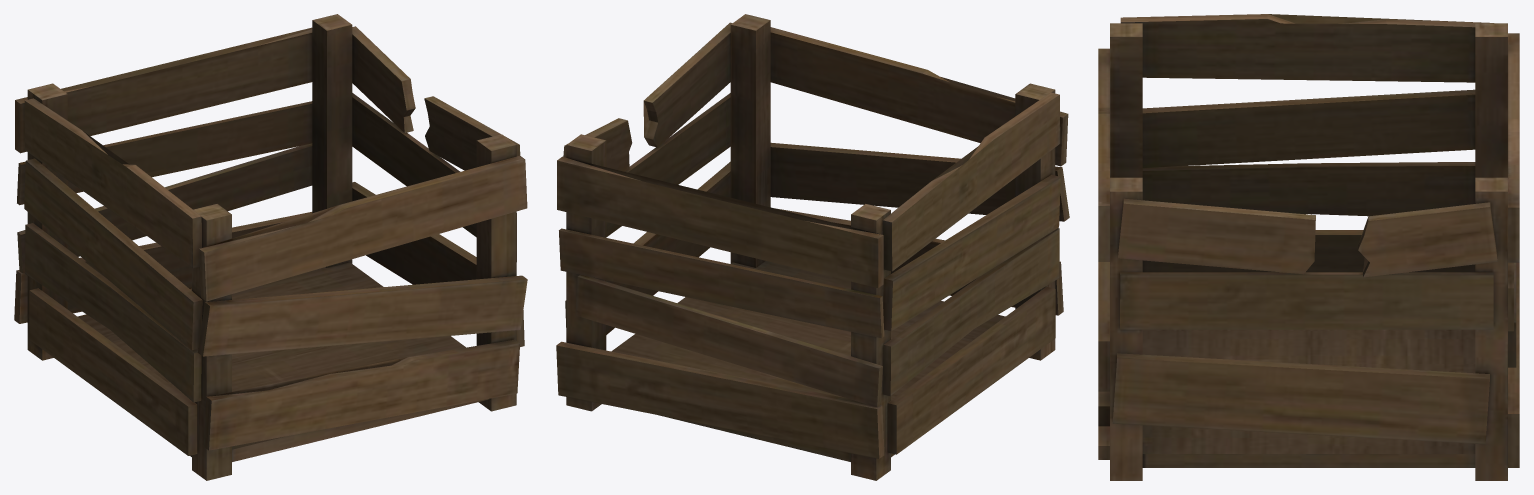
File: crate_slat.glb
3 views of the same model, side by side, from view 1: azimuth 30°, elevation 25°; view 2: azimuth 150°, elevation 25°; view 3: azimuth 270°, elevation 25° (orthographic). The views are drawn at different scales.
Visible parts, largest first — view 1: crate3; view 2: crate3; view 3: crate3.
Boxes of the visible parts, x1,y1,x2,y2 form: crate3: [14, 14, 527, 480]; crate3: [556, 14, 1069, 480]; crate3: [1098, 14, 1519, 480].
Bounding box in the file's own units: 0.9282 × 0.7099 × 0.9232.
Materials: 1 (1 with a texture image).
